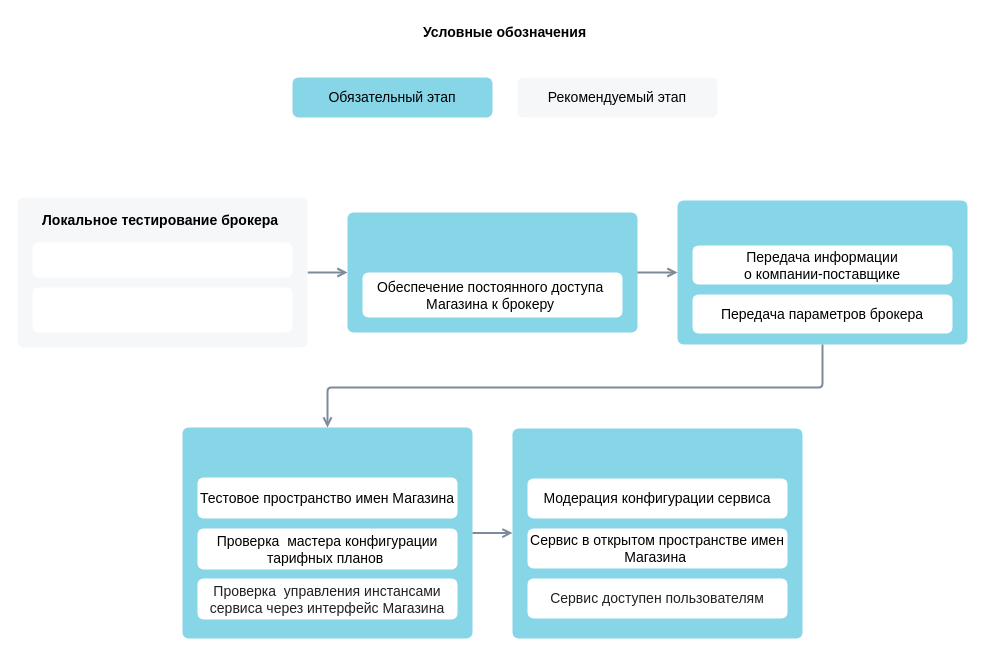
This 984x655 diagram has some shape labels left out. Here are the shapes that lost their labels. From the top down, the box of each, then its label:
(32, 242, 292, 277): Локальный запуск брокера
(347, 212, 637, 332): Разворачивание брокера на окружении
(677, 200, 967, 344): Регистрация брокера в Магазине
(32, 287, 292, 332): Проверка управления инстансами сервиса через API брокера
(182, 427, 472, 638): Тестирование сервиса в Магазине
(512, 428, 802, 638): Публикация сервиса
